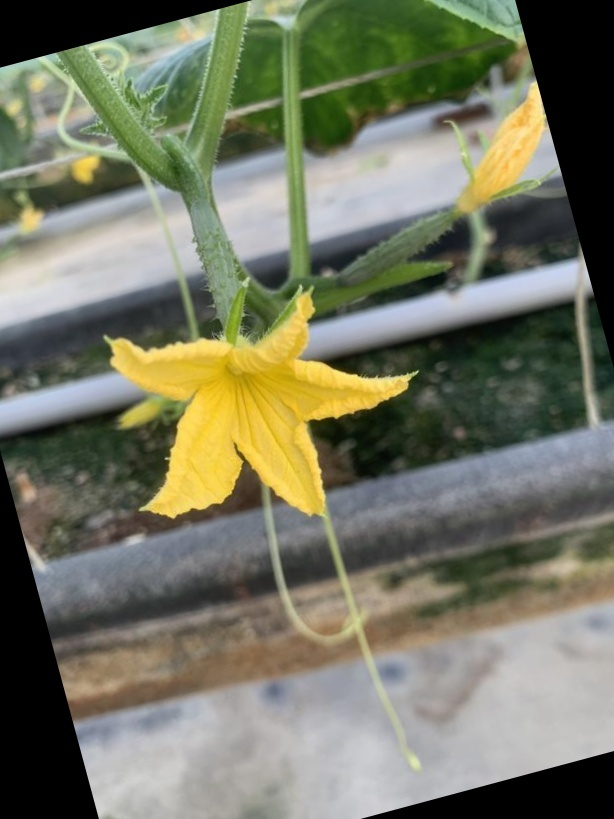flowering: (98, 278, 412, 529)
